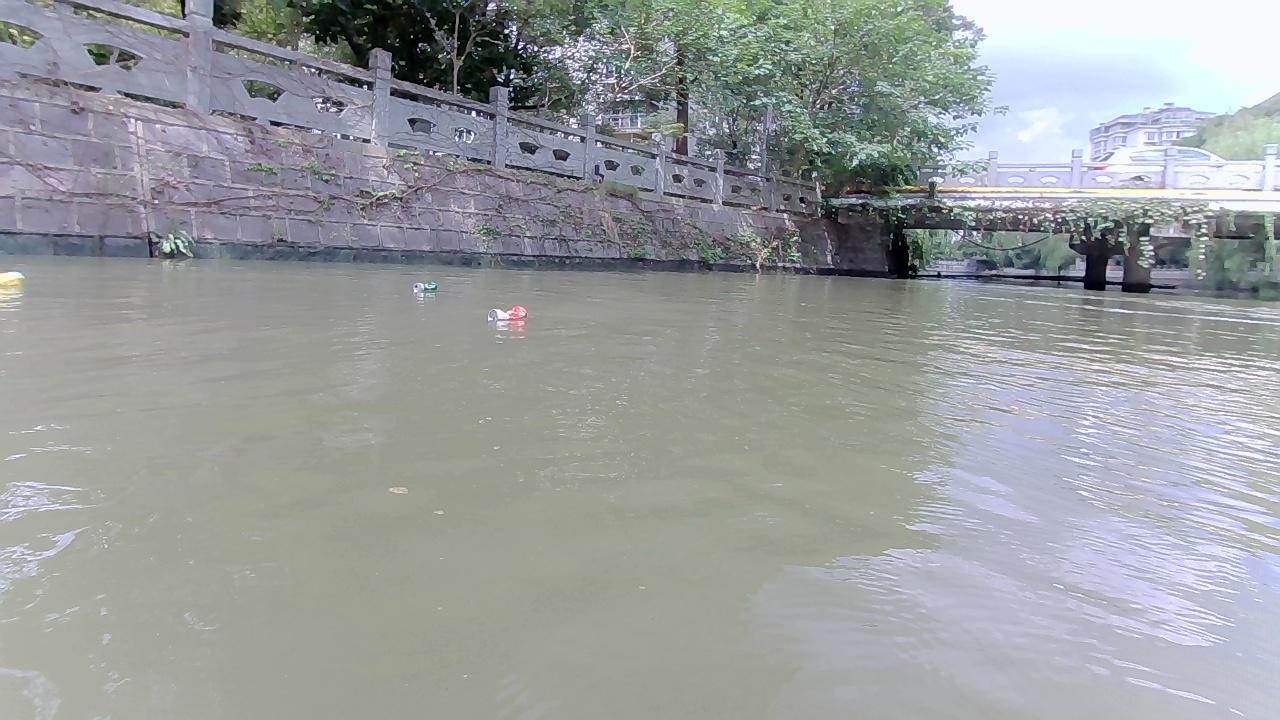bottle: (485, 303, 527, 320), (0, 269, 24, 283), (412, 280, 437, 290)
